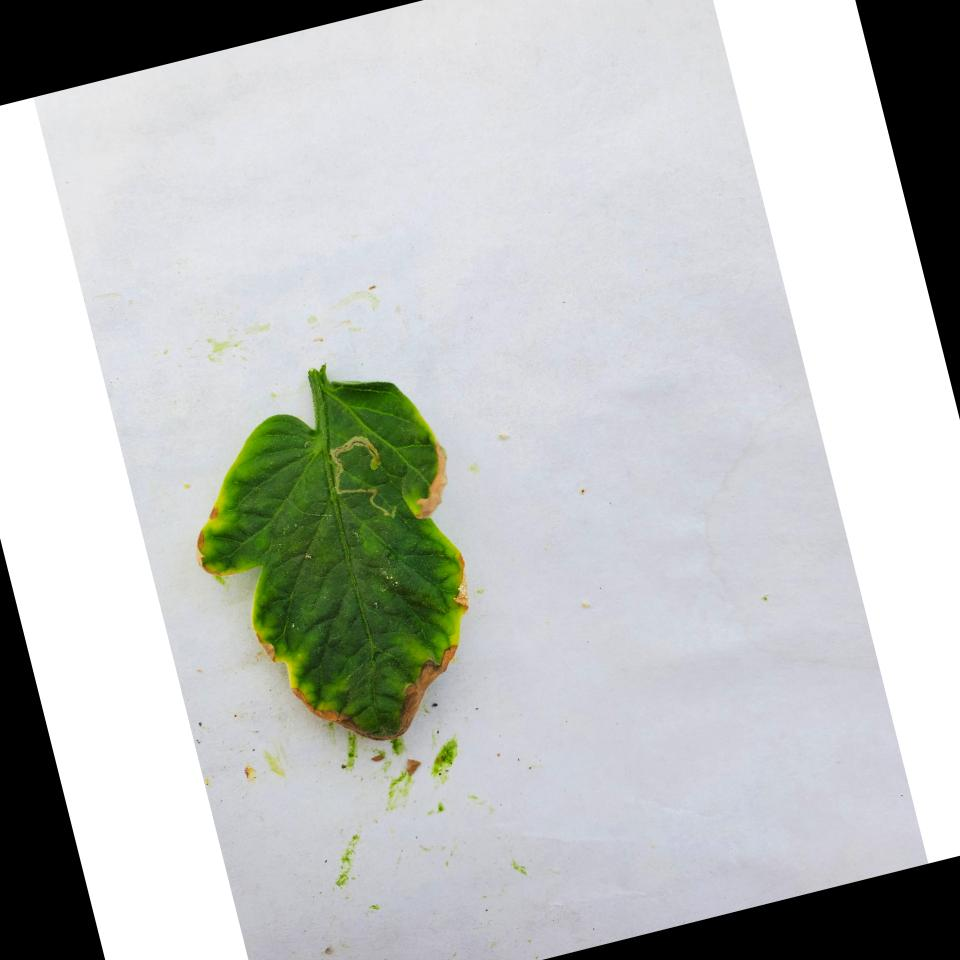tomato_bacterial_blight: (189, 325, 475, 760)
